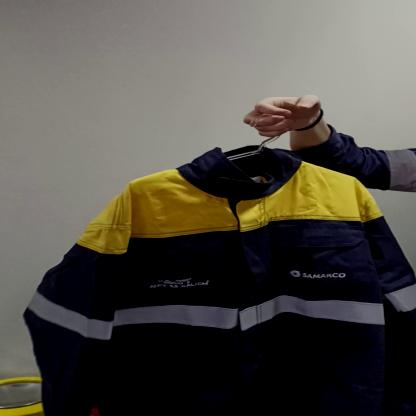C_eletrica: (22, 147, 416, 416)
